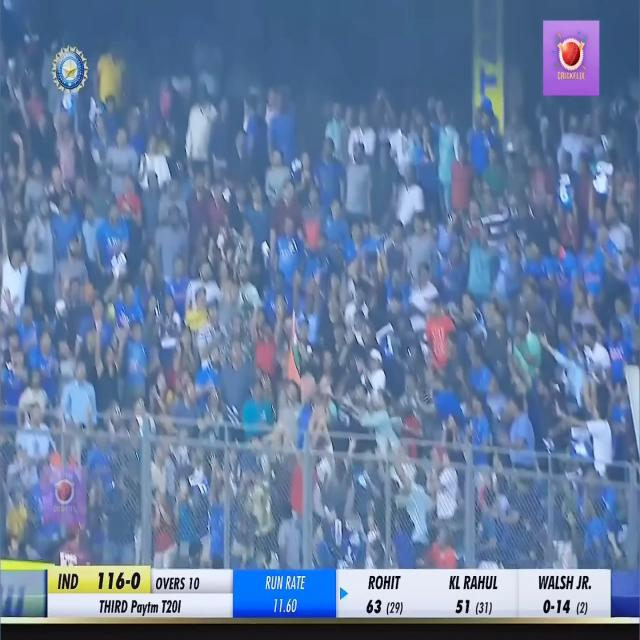fully_visible: (129, 594, 162, 619)
